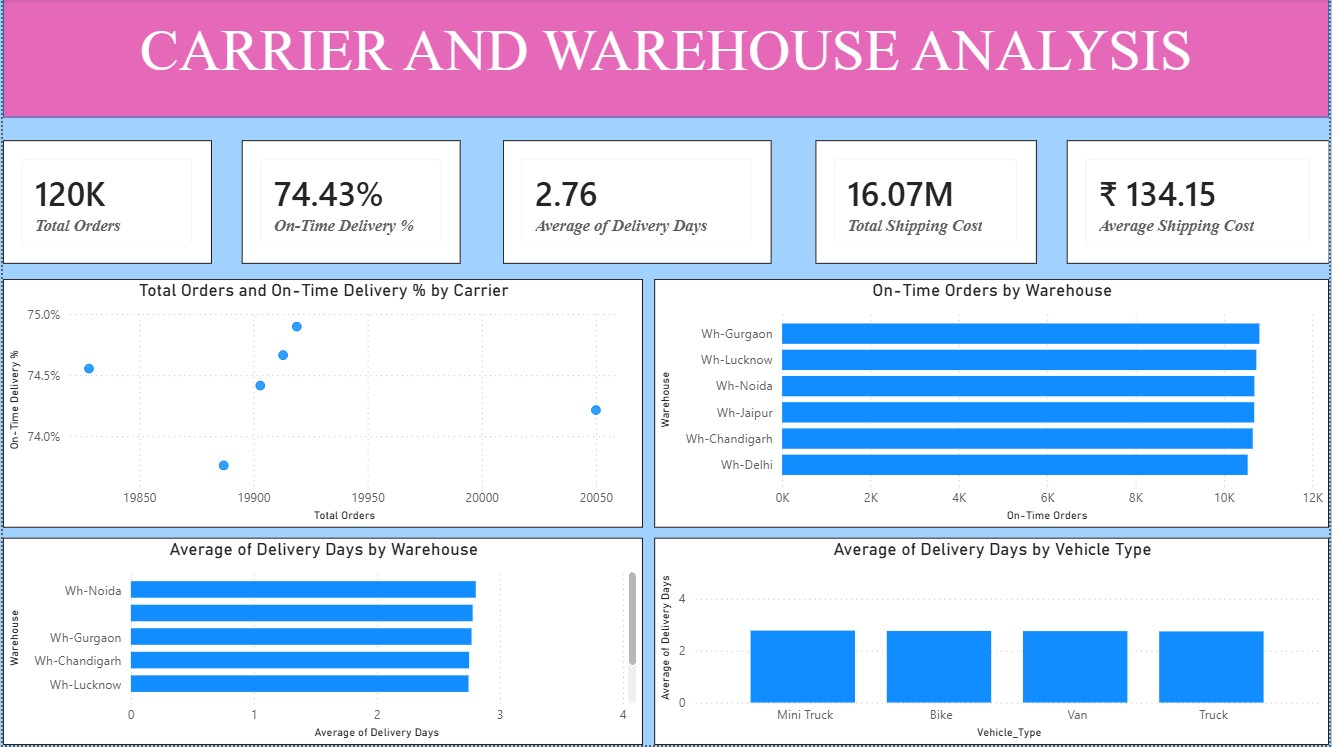

What the dashboard file says about the page in this screenshot:
{"tool":"powerbi","page":{"name":"Carrier and Warehouse Analysis","canvas":[1280,720],"ordinal":2},"visuals":[{"type":"cardVisual","fields":{"Data":["Fact_Deliveries.Total Orders"]},"box":[25.3,136.3,176.1,119.4],"z":0},{"type":"cardVisual","fields":{"Data":["Fact_Deliveries.Total Shipping Cost"]},"box":[758.9,136.3,213.5,119.4],"z":1000},{"type":"cardVisual","fields":{"Data":["Avg(Fact_Deliveries.Delivery Days)"]},"box":[482.6,136.3,259.4,119.4],"z":2000},{"type":"cardVisual","fields":{"Data":["DIm_CIty.On-Time Delivery %"]},"box":[230.4,136.3,211.1,119.4],"z":3000},{"type":"cardVisual","fields":{"Data":["Fact_Deliveries.Average Shipping Cost"]},"box":[1026.7,136.3,230.4,119.4],"z":4000},{"type":"scatterChart","fields":{"X":["Fact_Deliveries.Total Orders"],"Y":["DIm_CIty.On-Time Delivery %"],"Category":["DIm_Carrier.Carrier"]},"box":[0,270.2,617.7,240.1],"z":5000},{"type":"clusteredBarChart","fields":{"Category":["Dim_Warehouse.Warehouse"],"Y":["Fact_Deliveries.On-Time Orders"]},"box":[628.6,270.2,651.5,240.1],"z":6000},{"type":"barChart","fields":{"Category":["Dim_Warehouse.Warehouse"],"Y":["Avg(Fact_Deliveries.Delivery Days)"]},"box":[0,520,617.7,200.3],"z":7000},{"type":"clusteredColumnChart","title":"Average of Delivery Days by Vehicle Type","fields":{"Category":["Fact_Deliveries.Vehicle_Type"],"Y":["Avg(Fact_Deliveries.Delivery Days)"]},"box":[628.6,520,651.5,200.3],"z":8000},{"type":"shape","box":[0,0,1280,114.6],"z":8001},{"type":"textbox","box":[0,13.3,1280,72.4],"z":8002}]}

Visuals, with their boxes in screenshot pixels (x1, y1, x2, y2), scaled from the page's 1280x720 canvas onto the 1332x747 screenshot:
cardVisual - Fact_Deliveries.Total Orders: (26,141,210,265)
cardVisual - Fact_Deliveries.Total Shipping Cost: (790,141,1012,265)
cardVisual - Avg(Fact_Deliveries.Delivery Days): (502,141,772,265)
cardVisual - DIm_CIty.On-Time Delivery %: (240,141,459,265)
cardVisual - Fact_Deliveries.Average Shipping Cost: (1068,141,1308,265)
scatterChart - Fact_Deliveries.Total Orders x DIm_CIty.On-Time Delivery %: (0,280,643,529)
clusteredBarChart - Dim_Warehouse.Warehouse x Fact_Deliveries.On-Time Orders: (654,280,1331,529)
barChart - Dim_Warehouse.Warehouse x Avg(Fact_Deliveries.Delivery Days): (0,540,643,746)
"Average of Delivery Days by Vehicle Type" clusteredColumnChart: (654,540,1331,746)
shape: (0,0,1331,119)
textbox: (0,14,1331,89)
